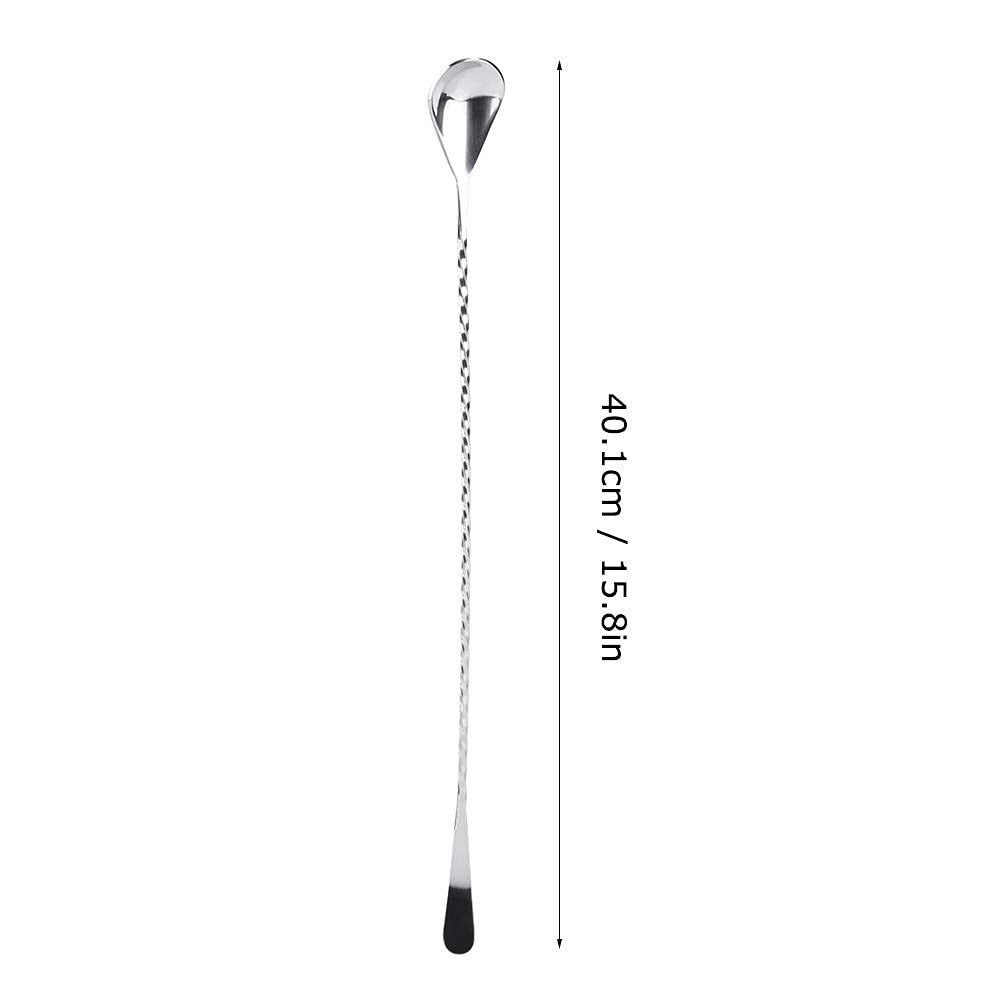/: (592, 526, 632, 544)
15.8in: (601, 561, 627, 660)
40.1cm: (597, 394, 628, 544)
